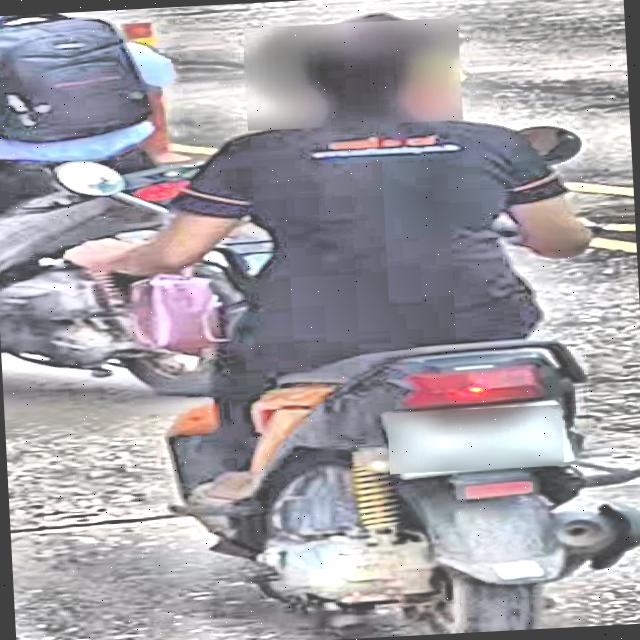motorcycle: (69, 147, 640, 640)
